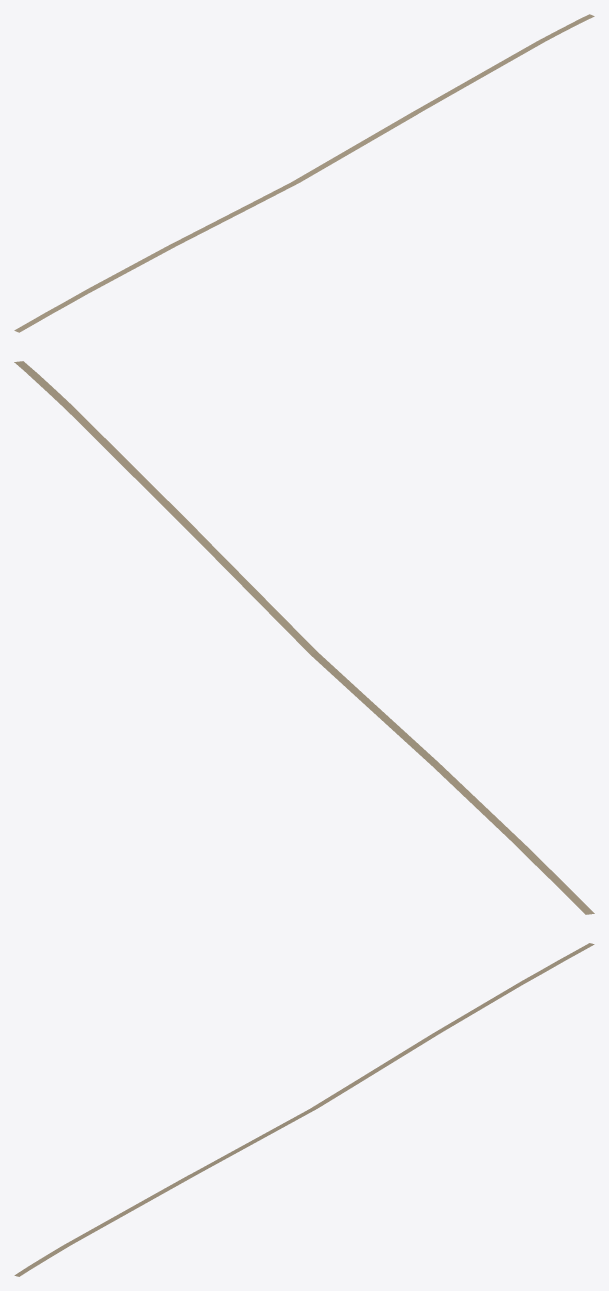
File: farm_-7_8_track.glb
3 views of the same model, one above another, from view 1: azimuth 90°, elevation 25°; view 2: azimuth 150°, elevation 25°; view 3: azimuth 270°, elevation 25° (orthographic). The views are drawn at different scales.
Parts seen in each view (by area): view 1: geometry_0; view 2: geometry_0; view 3: geometry_0.
Boxes of the visible parts, x1=… form: geometry_0: x1=14, y1=14, x2=594, y2=332; geometry_0: x1=14, y1=361, x2=594, y2=914; geometry_0: x1=14, y1=943, x2=594, y2=1276.
Bounding box in the file's own units: 376 × 4.74 × 283.
